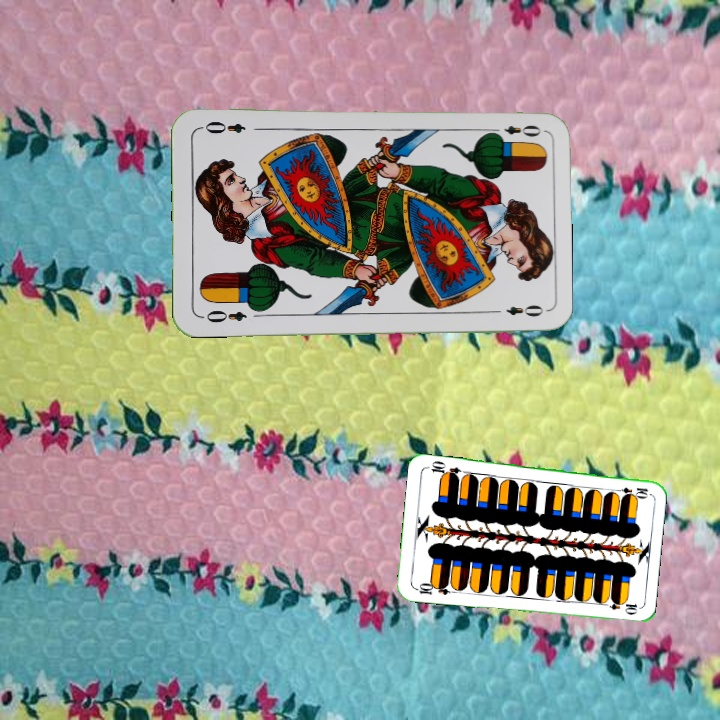E10: (411, 579, 452, 598), (610, 483, 651, 498)
EO: (486, 120, 544, 141), (197, 306, 249, 326)
